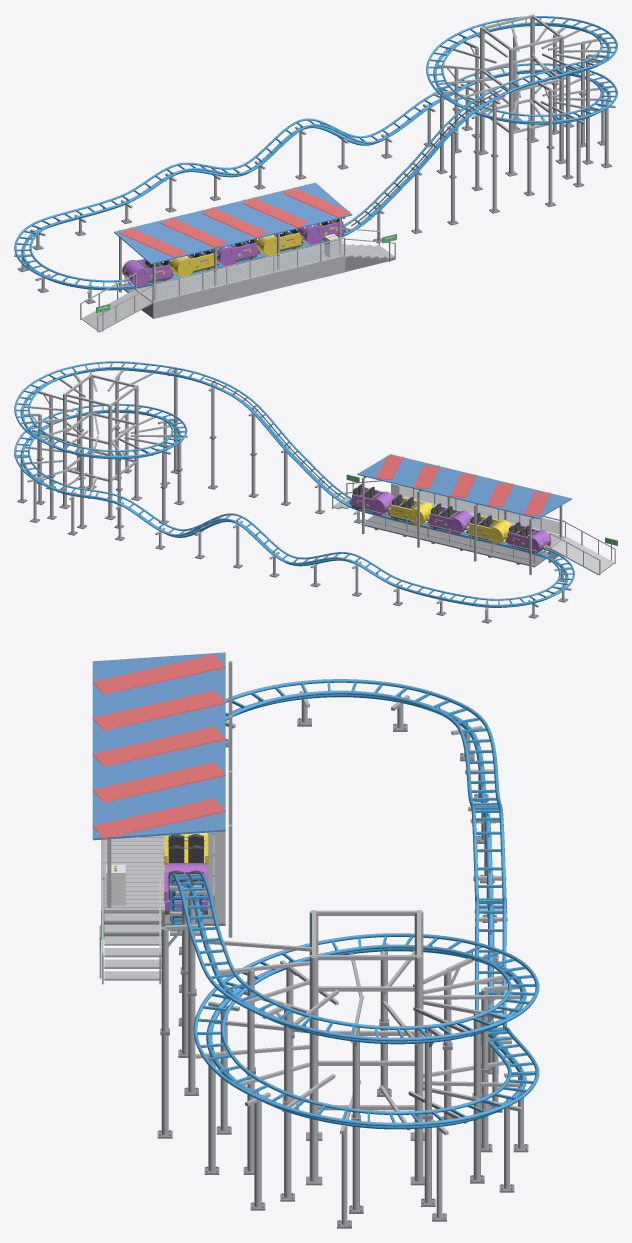
3 views of the same model, one above another, from view 1: azimuth 30°, elevation 25°; view 2: azimuth 150°, elevation 25°; view 3: azimuth 270°, elevation 25° (orthographic). The views are drawn at different scales.
Visible parts, largest first — view 1: base, car0, car1, car2, car3, car4; view 2: base, car2, car0, car4, car3, car1; view 3: base, car3, car4.
Part boxes in pixels (<box>): base: <box>14,14,617,332</box>; car0: <box>122,259,173,286</box>; car1: <box>169,249,213,276</box>; car2: <box>212,239,259,265</box>; car3: <box>255,228,303,255</box>; car4: <box>299,218,346,244</box>; base: <box>14,361,617,623</box>; car2: <box>427,503,472,534</box>; car0: <box>505,522,551,553</box>; car4: <box>349,484,394,515</box>; car3: <box>388,494,432,525</box>; car1: <box>466,512,511,544</box>; base: <box>92,652,539,1228</box>; car3: <box>163,832,208,869</box>; car4: <box>163,863,208,920</box>.
Bounding box in the file's own units: 37.36 × 7.63 × 13.64.
